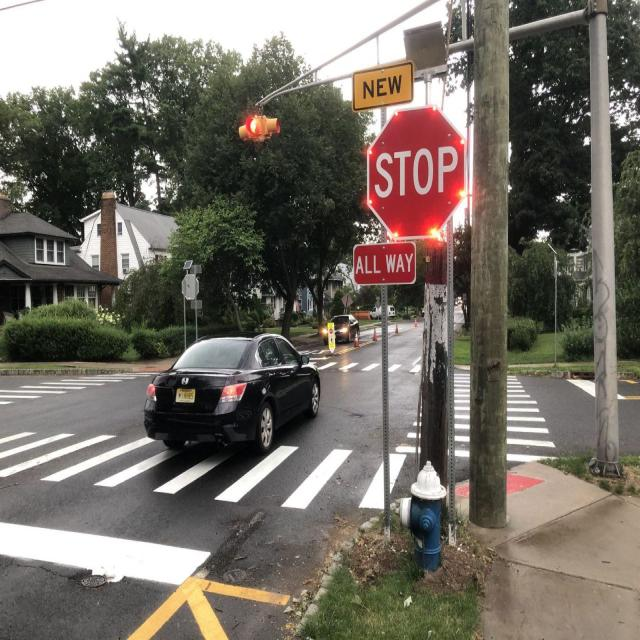stop: (364, 108, 472, 243)
